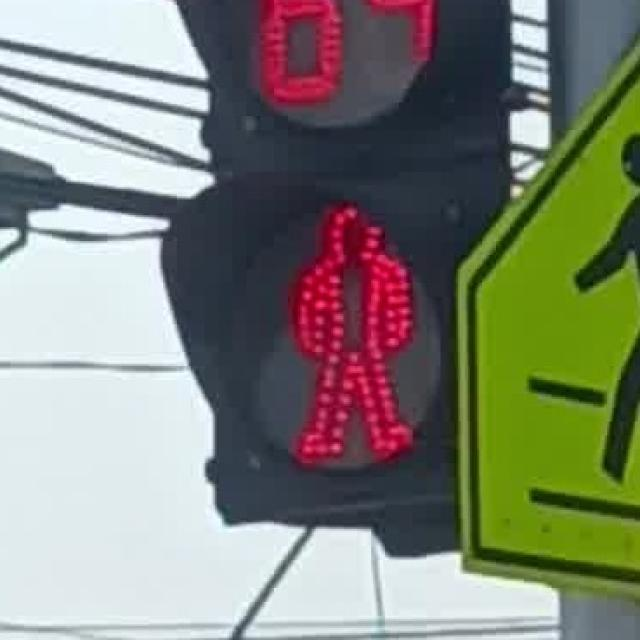red_light: (274, 193, 425, 475)
